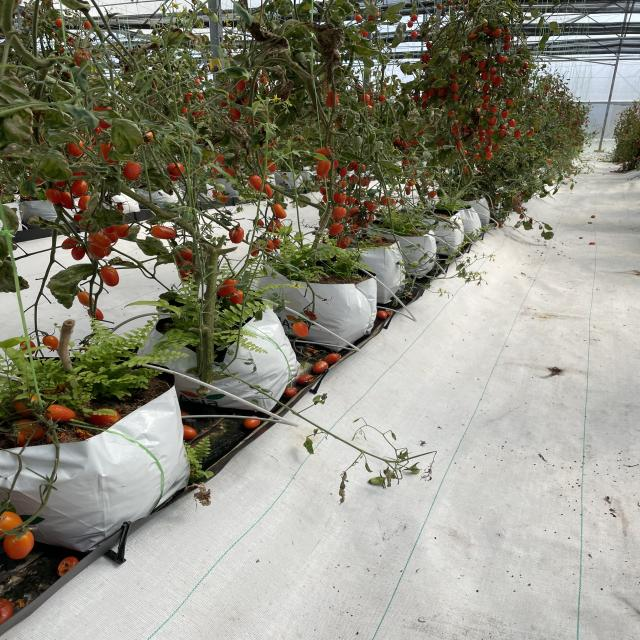Soilbag: (2, 354, 182, 546), (139, 296, 303, 412), (253, 257, 380, 345)
plant: (41, 134, 257, 360), (210, 93, 342, 274), (46, 317, 84, 396)
